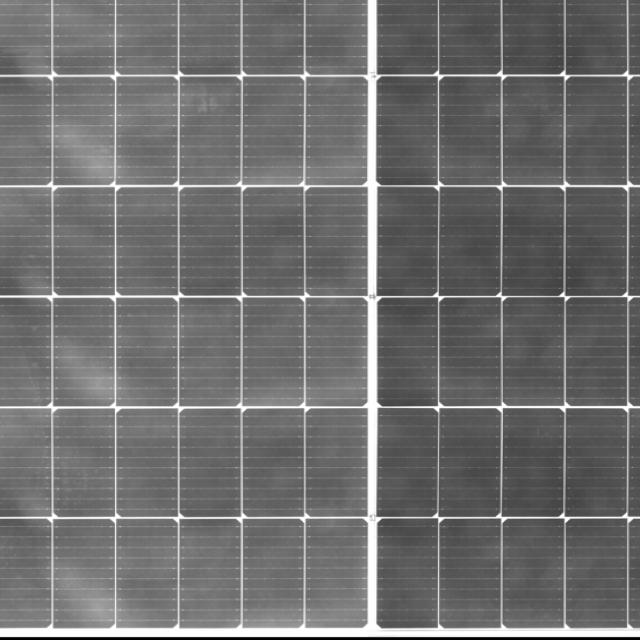CORRECT: (25, 11, 640, 635)
